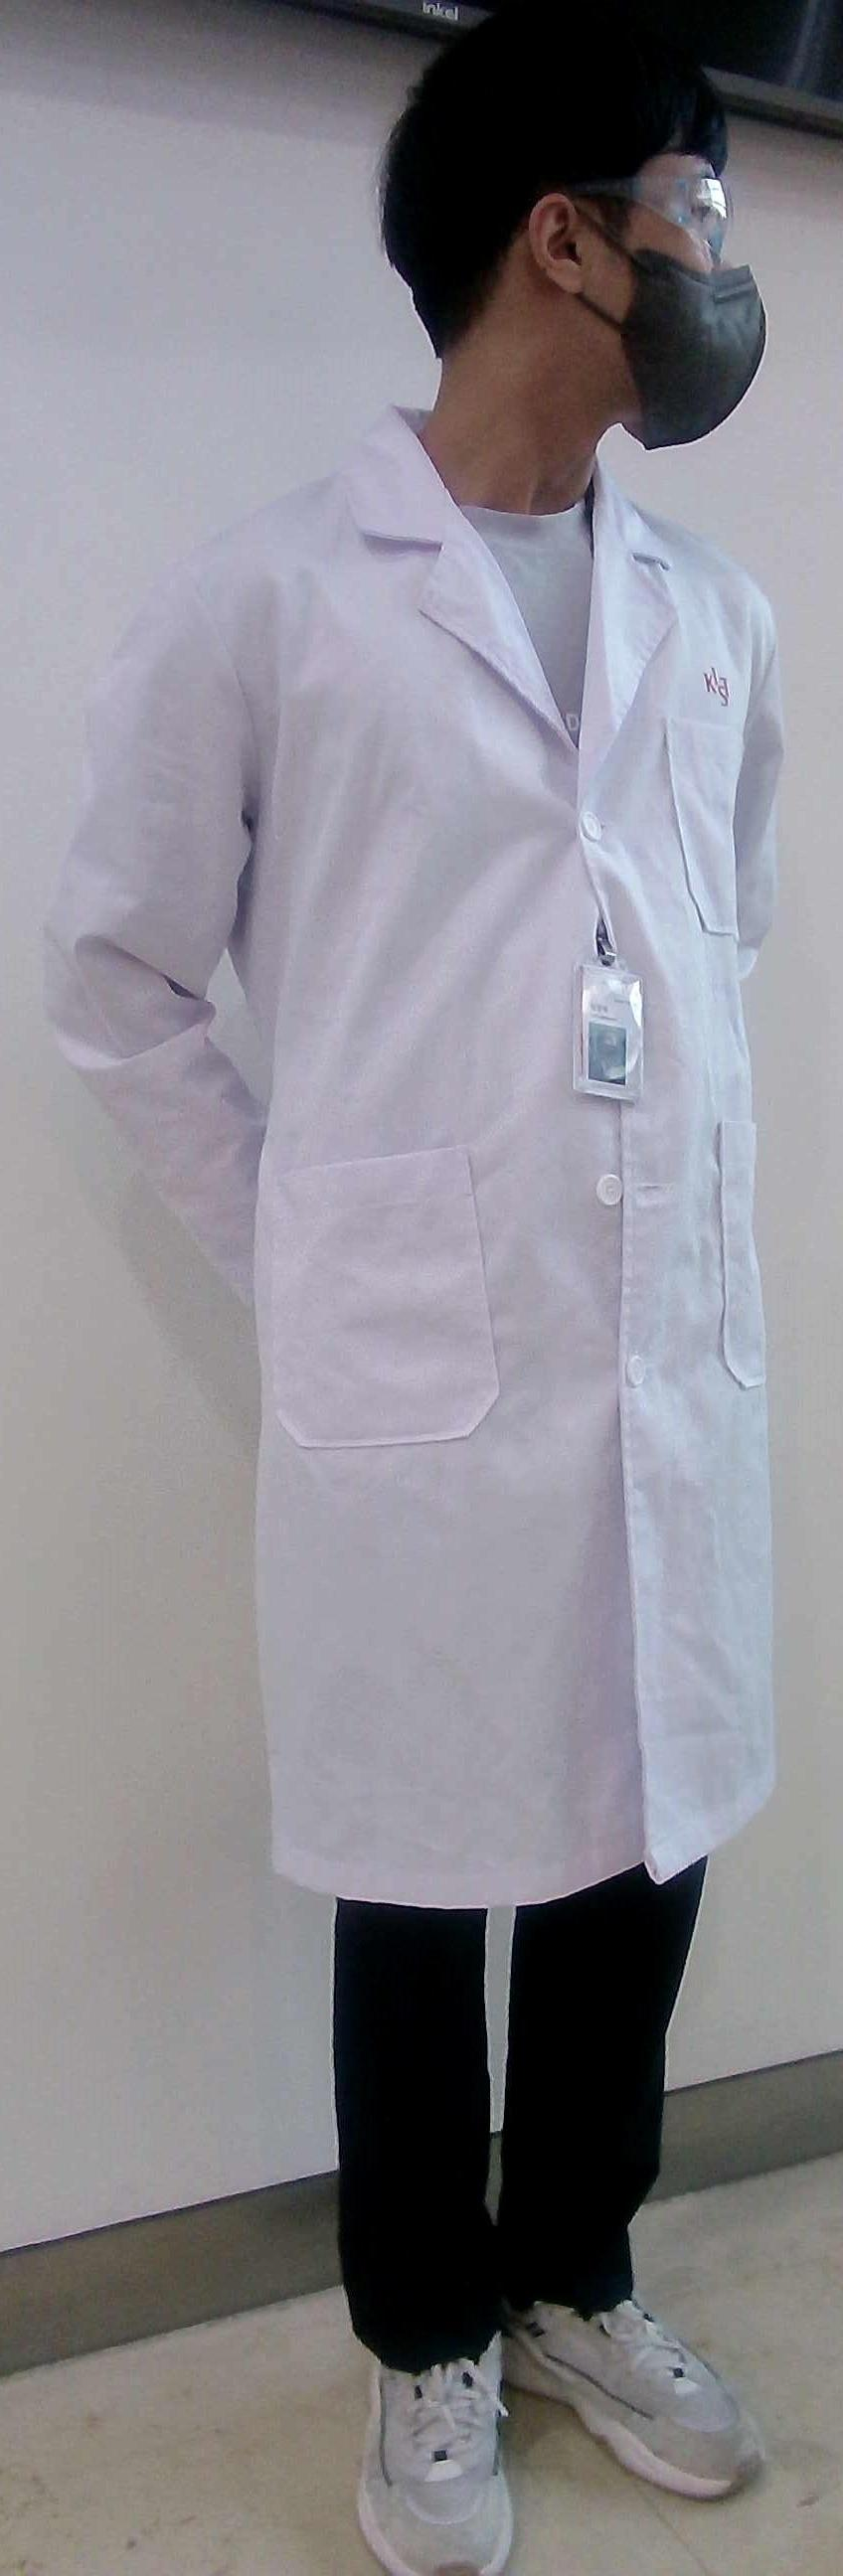lab_coat: (110, 562, 802, 1896)
